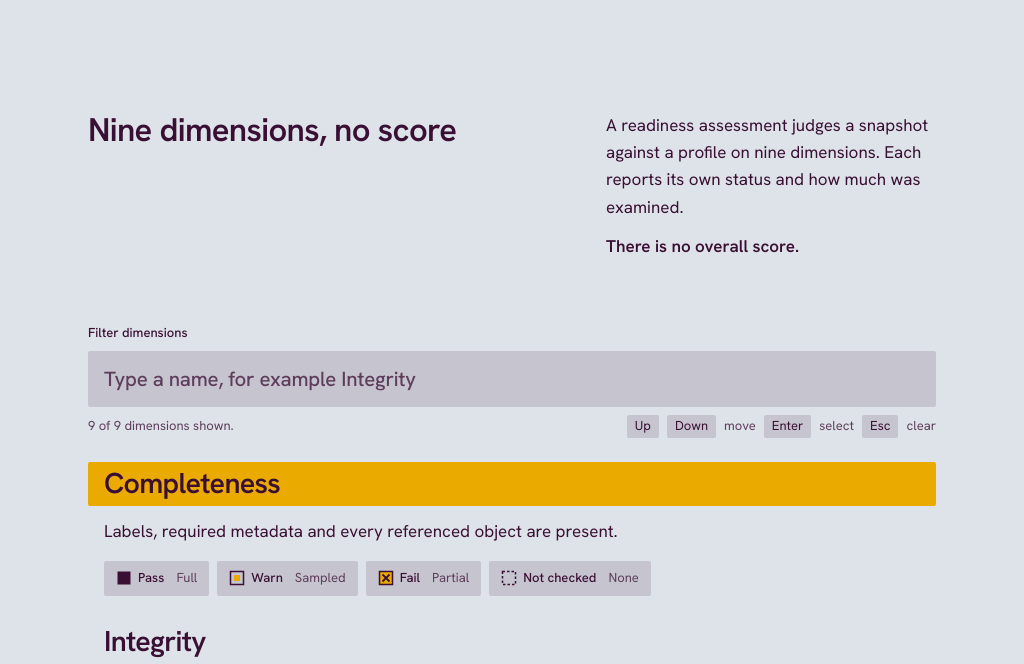
Test: Readiness section › moves the selection with the arrow keys and clears with Escape
The width and height of the screenshot is (1024, 664).
Click the field labelled "Filter dimensions" at (512, 379), box left=88, top=351, right=936, bottom=407
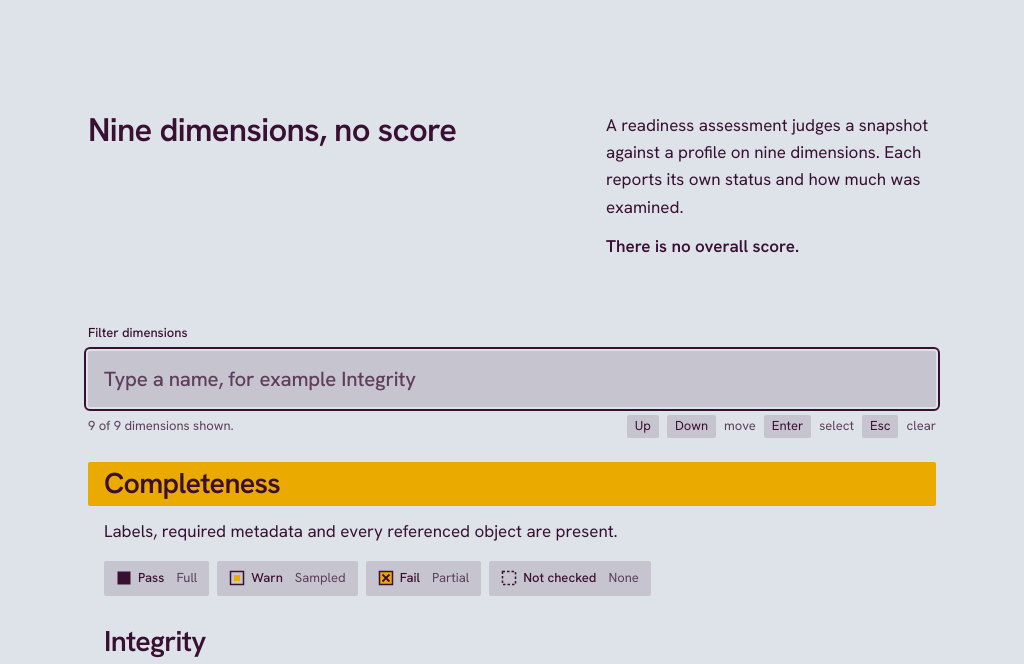
Press Arrowdown
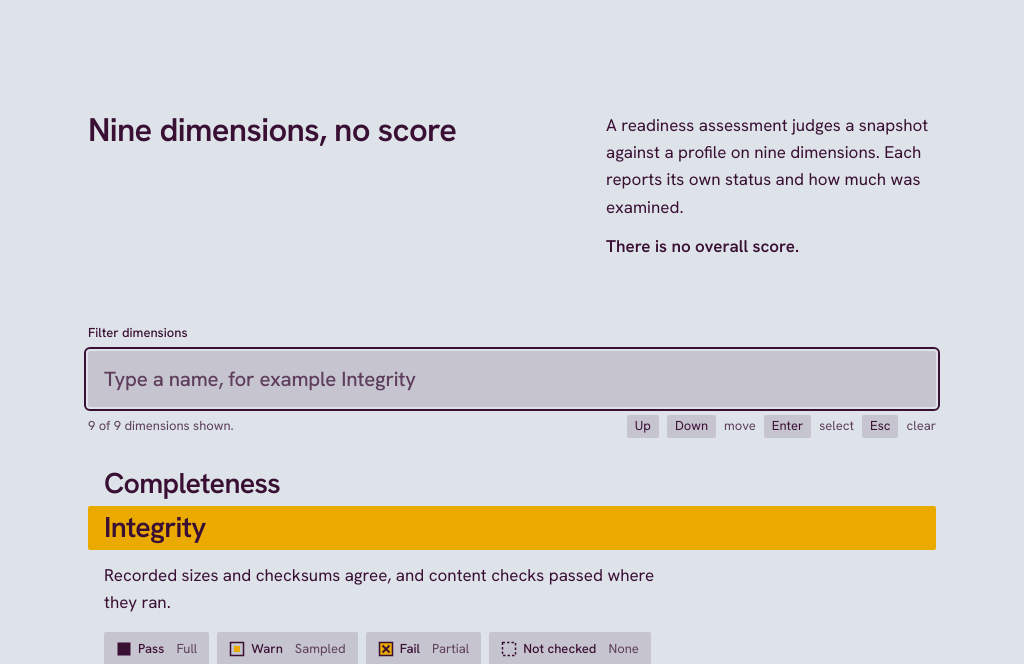
Expected: the button "Integrity" is expanded, left=88, top=506, right=936, bottom=550
Expected: the button "Completeness" is collapsed, left=88, top=462, right=936, bottom=506
Press Arrowup
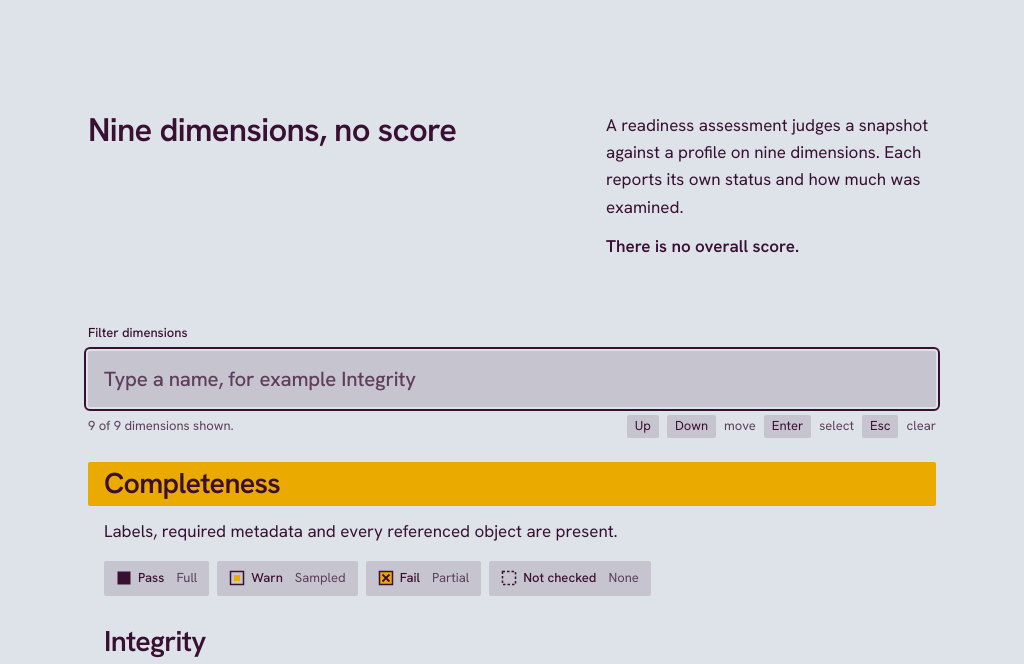
Expected: the button "Completeness" is expanded, left=88, top=462, right=936, bottom=506
Type "sec" into the field labelled "Filter dimensions" at (512, 379), box left=88, top=351, right=936, bottom=407
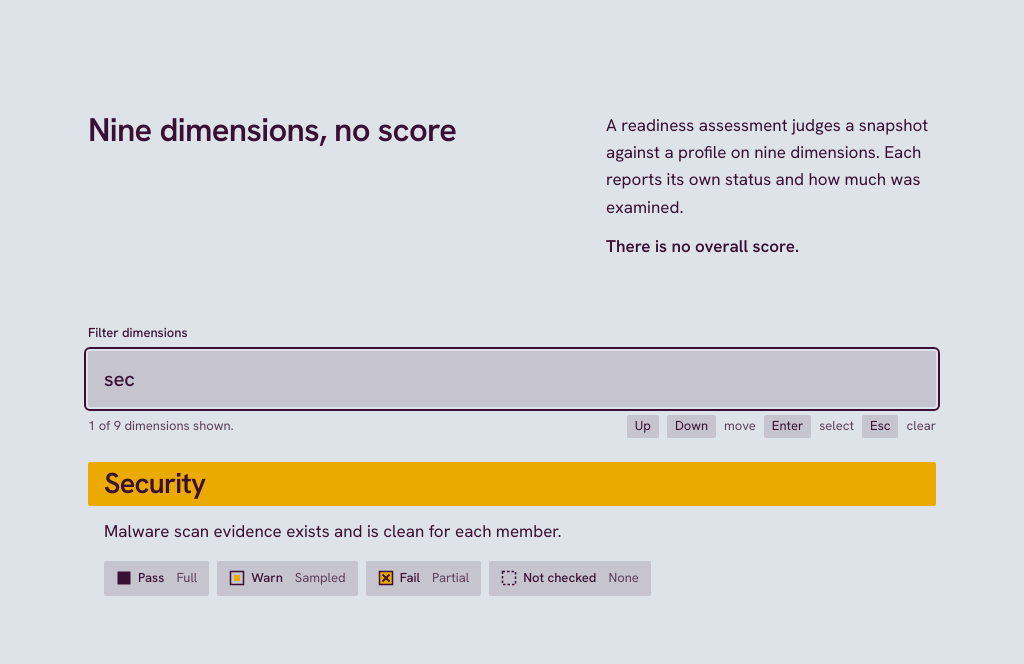
Expected: the message shows "1 of 9", left=88, top=417, right=234, bottom=436
Press Escape
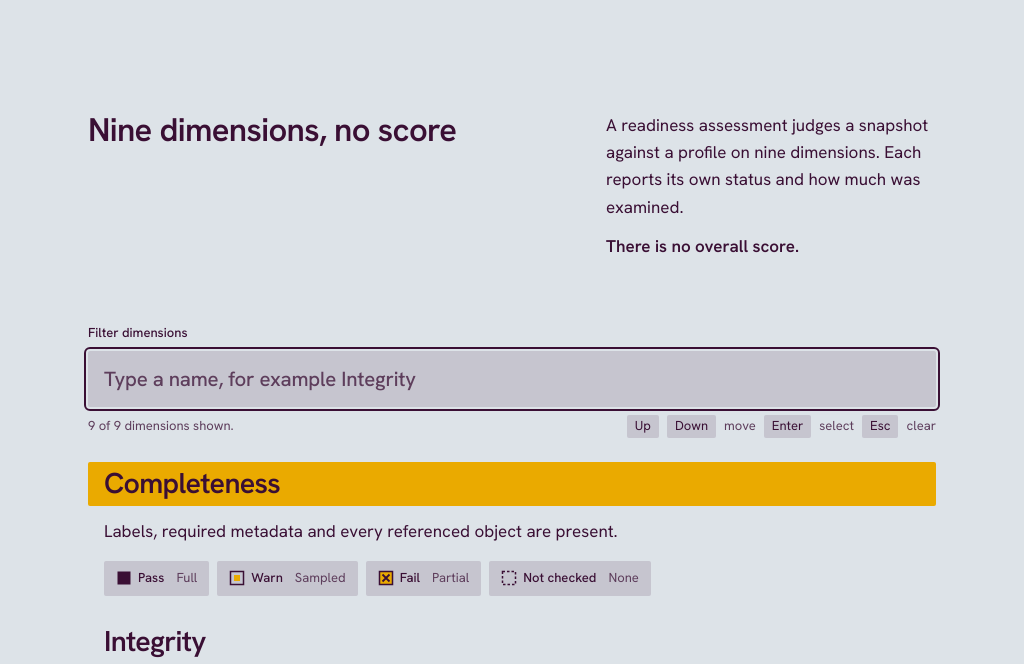
Expected: the field labelled "Filter dimensions" is empty, left=88, top=351, right=936, bottom=407
Expected: the message shows "9 of 9", left=88, top=417, right=234, bottom=436
